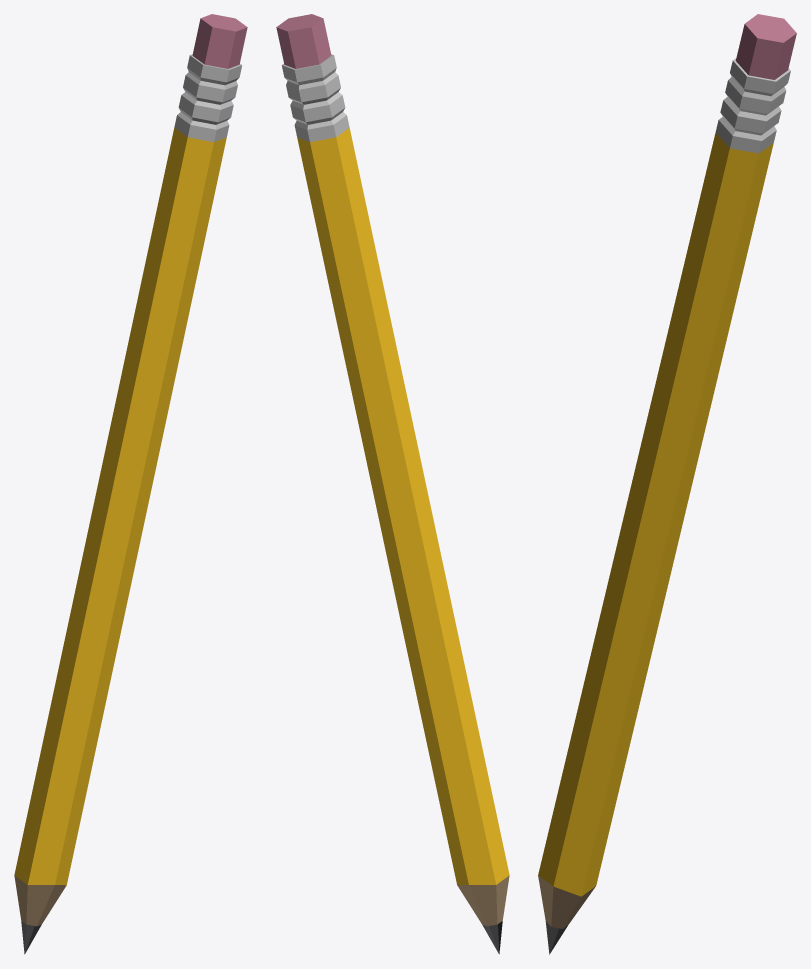
File: pencil.glb
3 renders of one model, left to right at view 1: azimuth 30°, elevation 25°; view 2: azimuth 150°, elevation 25°; view 3: azimuth 330°, elevation 25°, orthographic. The views are drawn at different scales.
Parts seen in each view (by area): view 1: Circle; view 2: Circle; view 3: Circle.
Part boxes in pixels (x1,y1,x2,y2): Circle: (14,14,247,954); Circle: (276,14,509,954); Circle: (538,14,796,954).
Size of the model in its own units: 9.51 by 36.58 by 2.
